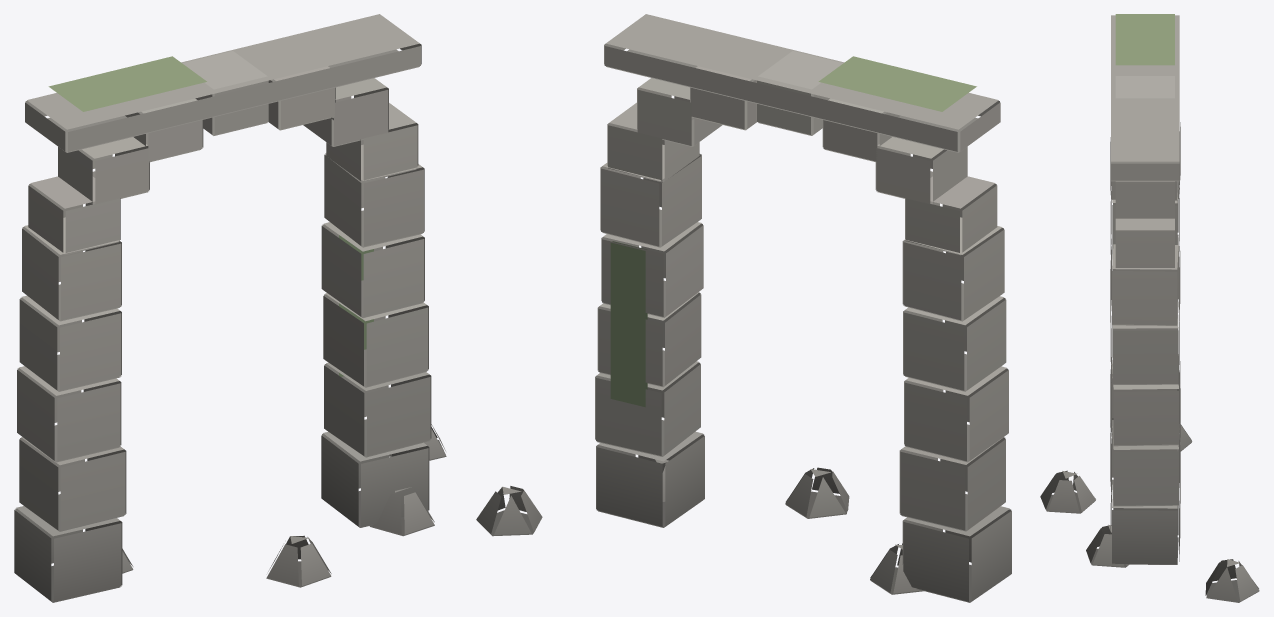
The model's file is iv_ruin_arch.lod.glb.
3 views of the same model, side by side, from view 1: azimuth 30°, elevation 25°; view 2: azimuth 150°, elevation 25°; view 3: azimuth 270°, elevation 25° (orthographic). The views are drawn at different scales.
Visible parts, largest first — view 1: iv_ruin_arch; view 2: iv_ruin_arch; view 3: iv_ruin_arch.
Part boxes in pixels (x1,y1,x2,y2): iv_ruin_arch: (14,14,446,602); iv_ruin_arch: (476,14,1011,602); iv_ruin_arch: (1040,14,1259,602).
Bounding box in the file's own units: 7.26 × 7.29 × 3.52.
